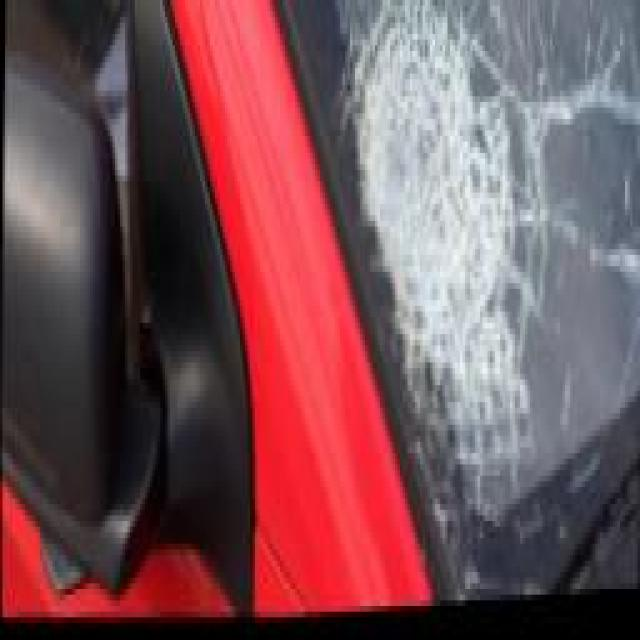Windshield: (292, 0, 640, 615)
